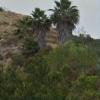Palm tree: (14, 2, 84, 57)
